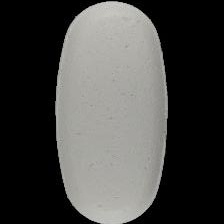76237-154: (0, 0, 224, 224)
